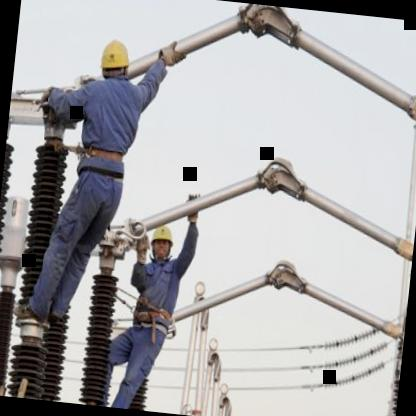helmet: (96, 32, 134, 86), (145, 224, 176, 261)
